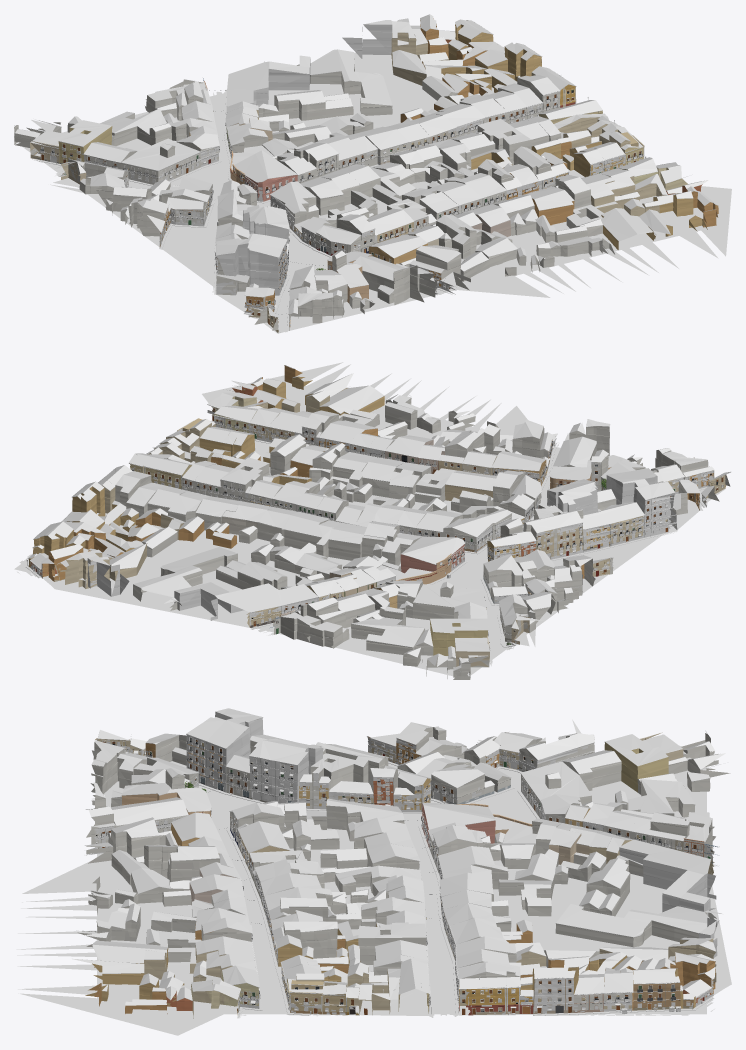
Rendered from zona_-1_-1.glb.
3 views of the same model, one above another, from view 1: azimuth 30°, elevation 25°; view 2: azimuth 150°, elevation 25°; view 3: azimuth 270°, elevation 25° (orthographic). The views are drawn at different scales.
Parts seen in each view (by area): view 1: z_tejados_-1_-1, z_casas_-1_-1, z_calle_-1_-1, z_casas_planas_-1_-1, z_fachadas_-1_-1, z_suelo_-1_-1; view 2: z_tejados_-1_-1, z_casas_-1_-1, z_calle_-1_-1, z_casas_planas_-1_-1, z_fachadas_-1_-1, z_suelo_-1_-1; view 3: z_tejados_-1_-1, z_casas_-1_-1, z_calle_-1_-1, z_fachadas_-1_-1, z_casas_planas_-1_-1, z_suelo_-1_-1.
Boxes of the visible parts, box(x1,y1,x2,y2) form: z_tejados_-1_-1: box(14, 14, 718, 317); z_casas_-1_-1: box(14, 18, 718, 332); z_calle_-1_-1: box(18, 52, 731, 333); z_casas_planas_-1_-1: box(14, 20, 617, 323); z_fachadas_-1_-1: box(31, 59, 647, 327); z_suelo_-1_-1: box(38, 89, 489, 332); z_tejados_-1_-1: box(28, 365, 730, 670); z_casas_-1_-1: box(28, 365, 730, 679); z_calle_-1_-1: box(14, 362, 725, 676); z_casas_planas_-1_-1: box(79, 413, 708, 674); z_fachadas_-1_-1: box(26, 408, 723, 650); z_suelo_-1_-1: box(17, 441, 707, 663); z_tejados_-1_-1: box(72, 708, 725, 1005); z_casas_-1_-1: box(77, 712, 730, 1018); z_calle_-1_-1: box(16, 761, 731, 1035); z_fachadas_-1_-1: box(86, 732, 717, 1014); z_casas_planas_-1_-1: box(90, 734, 719, 993); z_suelo_-1_-1: box(198, 786, 714, 1015).
Bounding box in the file's own units: 224 × 18.42 × 233.
